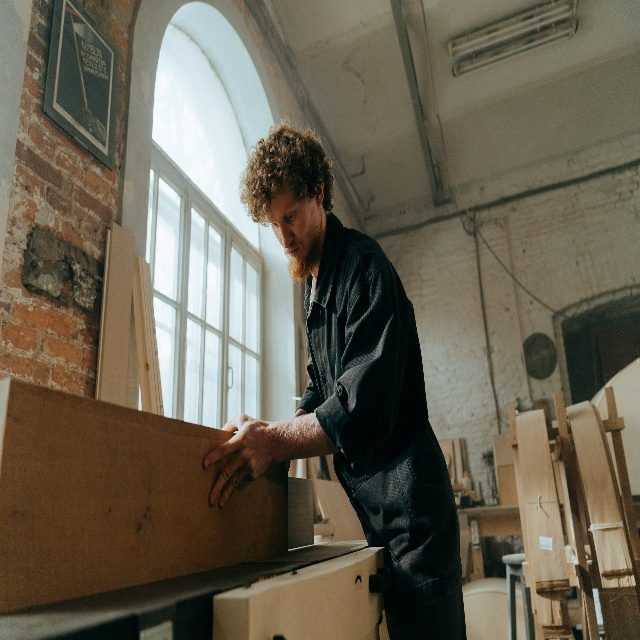Sin_guantes: (202, 416, 279, 507)
